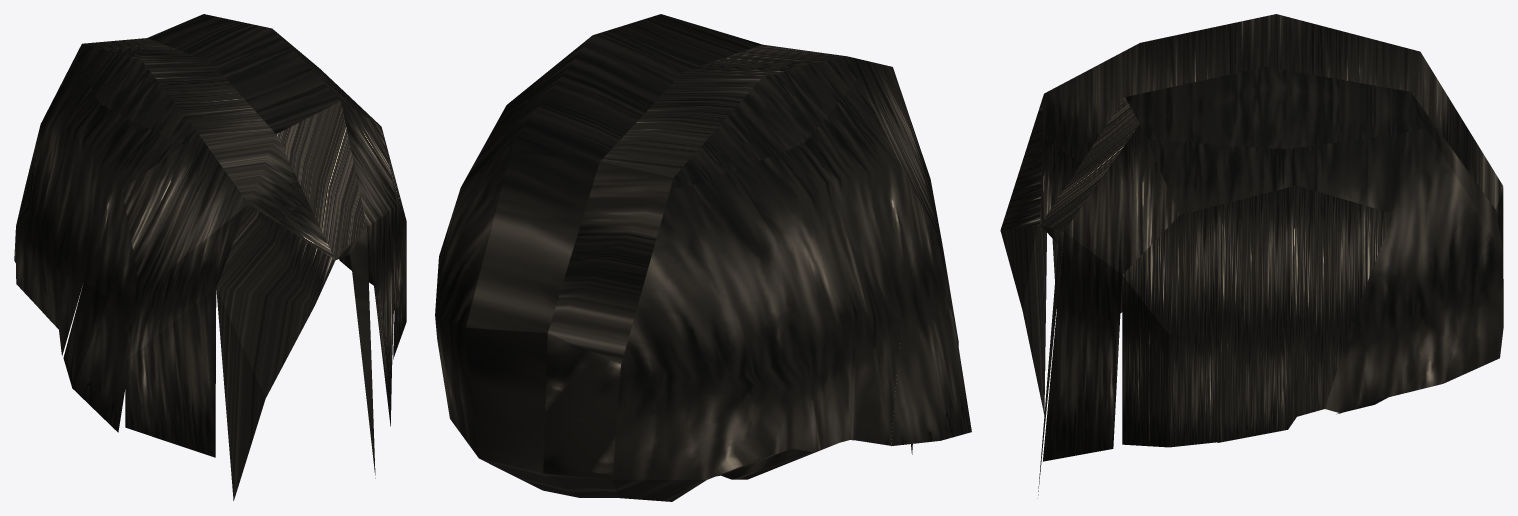
File: hair unisex 1.FBX
3 views of the same model, side by side, from view 1: azimuth 30°, elevation 25°; view 2: azimuth 150°, elevation 25°; view 3: azimuth 270°, elevation 25° (orthographic). The views are drawn at different scales.
Visible parts, largest first — view 1: hair unisex 1; view 2: hair unisex 1; view 3: hair unisex 1.
Part boxes in pixels (left/top/right/bottom): hair unisex 1: left=14, top=14, right=406, bottom=500; hair unisex 1: left=435, top=14, right=971, bottom=501; hair unisex 1: left=1000, top=14, right=1503, bottom=498.
Bounding box in the file's own units: 41.62 × 45.33 × 49.45.
